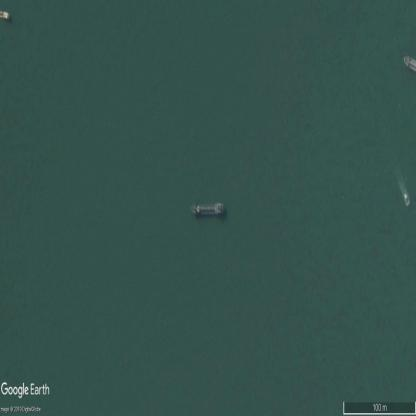ship: (191, 203, 224, 214), (404, 193, 410, 206)
